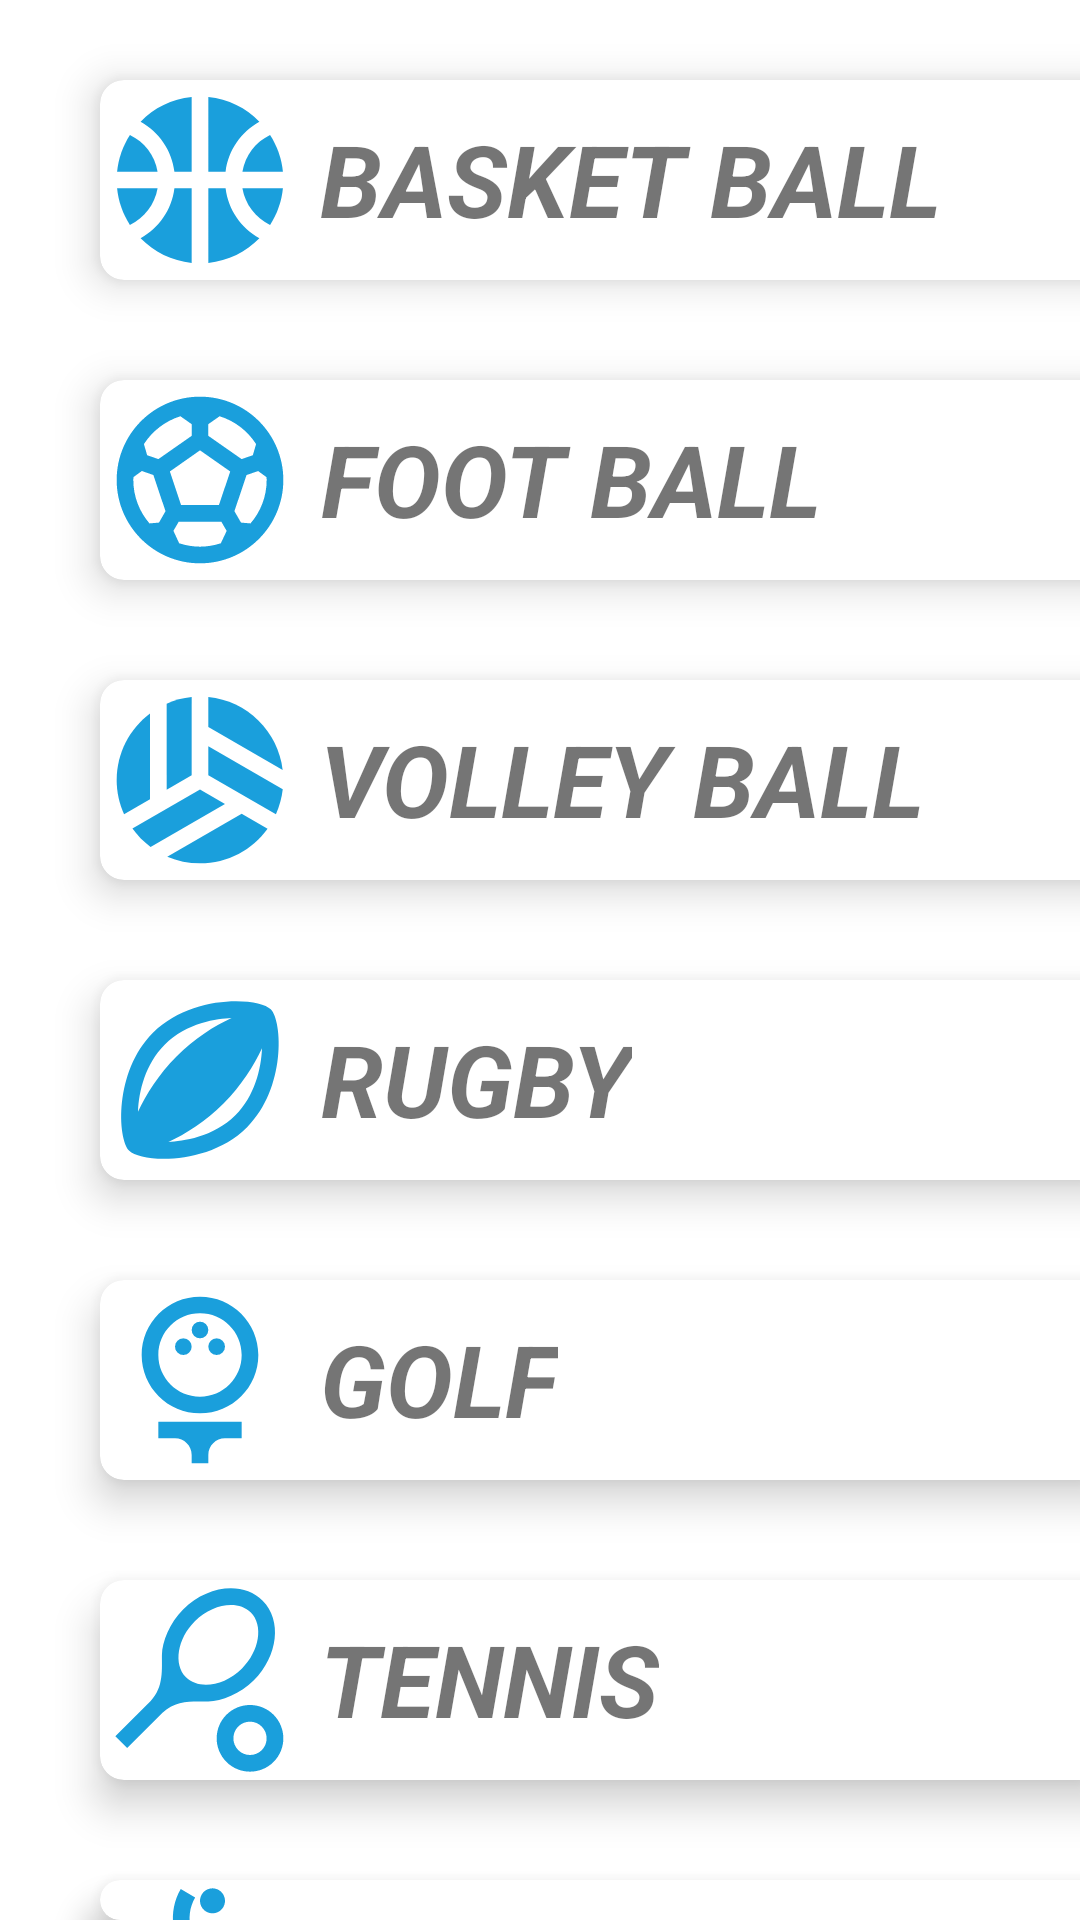

Screen size 1080 x 1920. Icon name, then its box in pixels as (x1, y1, x2, y2):
sports soccer: (116, 396, 284, 564)
